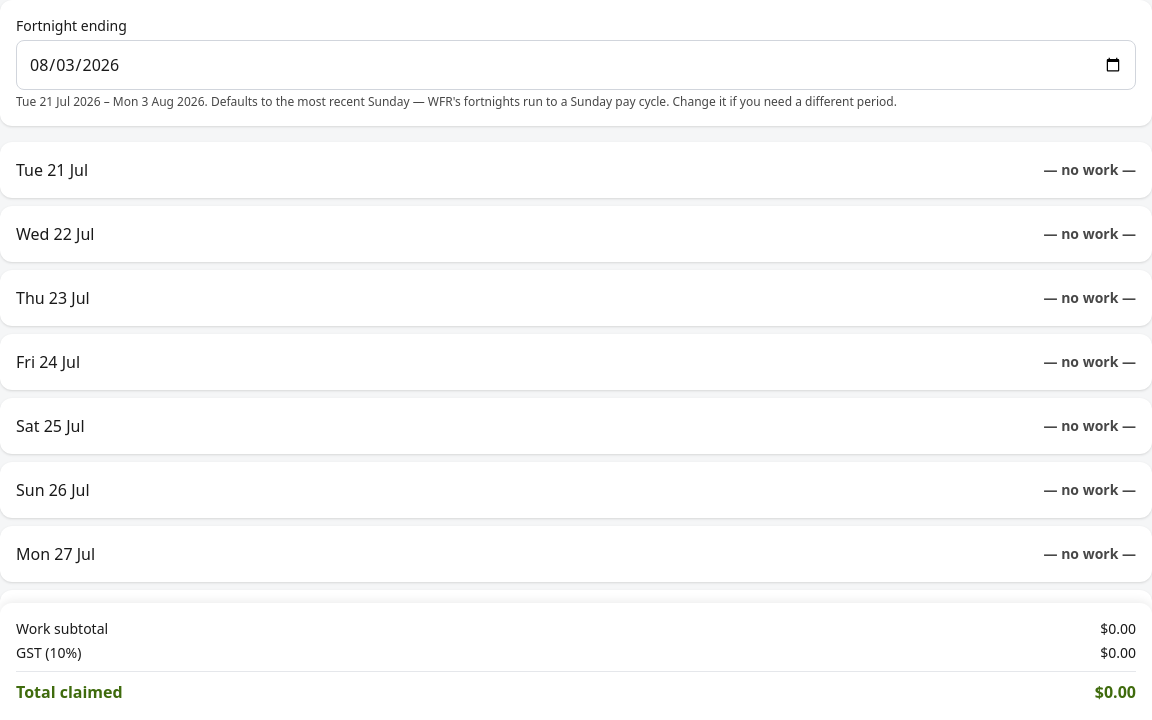
Scenario: FortnightlyForm reimbursement and receipt › mounts the review screen with the declaration unticked and Confirm blocked
The width and height of the screenshot is (1152, 720).
What coordinates should you click on to do the following:
click the text "Tue 21 Jul"
I would click on:
 (52, 170)
Its box is [16,158,88,182].
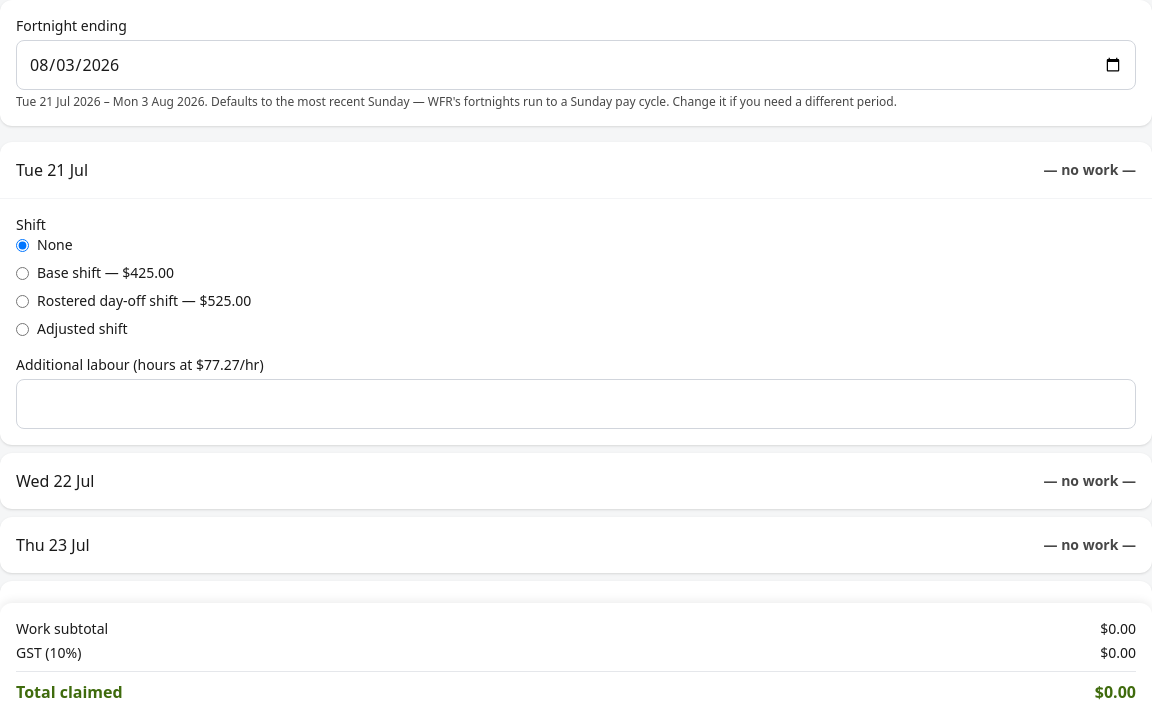
What coordinates should you click on to do the following:
click the radio button labelled "Base shift"
I would click on:
 (22, 273)
Its box is [16,266,29,280].
(page scrolled)
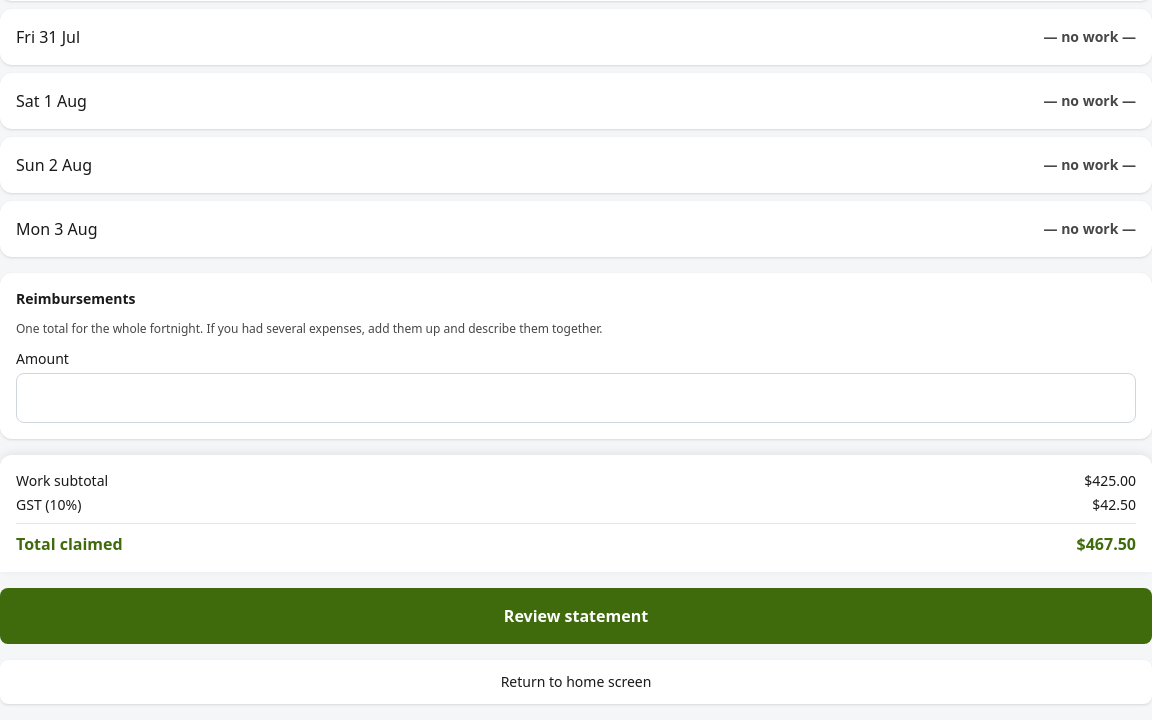
What coordinates should you click on to do the following:
click the button "Review statement"
I would click on:
 (576, 616)
Its box is [0,588,1151,644].
(page scrolled)
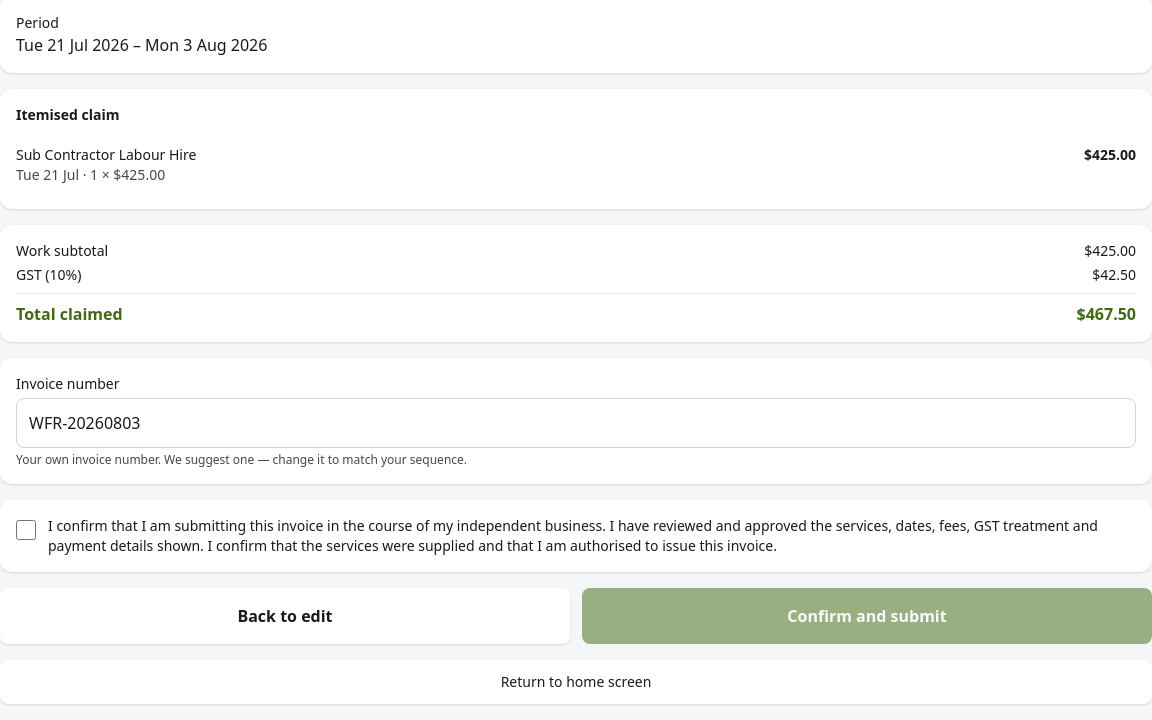
Expected: the checkbox is not checked, [16,520,36,540]
Expected: the button "Confirm and submit" is disabled, [582,588,1151,644]
